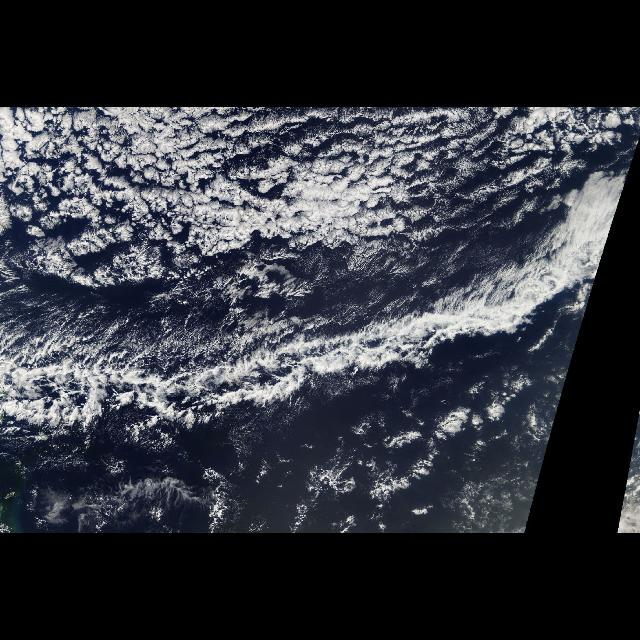Fish: (1, 172, 630, 468), (629, 406, 639, 466)
Flower: (7, 166, 79, 238)
Sugar: (2, 285, 238, 345), (312, 257, 433, 313)
